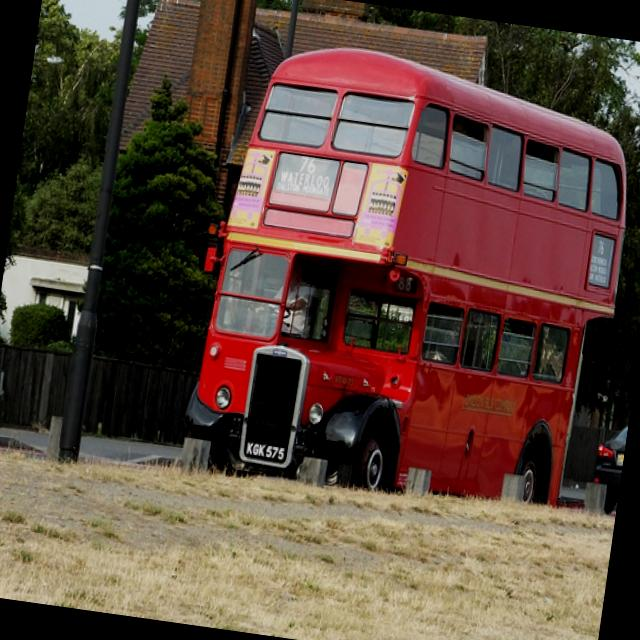Vehicle: (177, 28, 640, 527), (590, 412, 630, 514)
